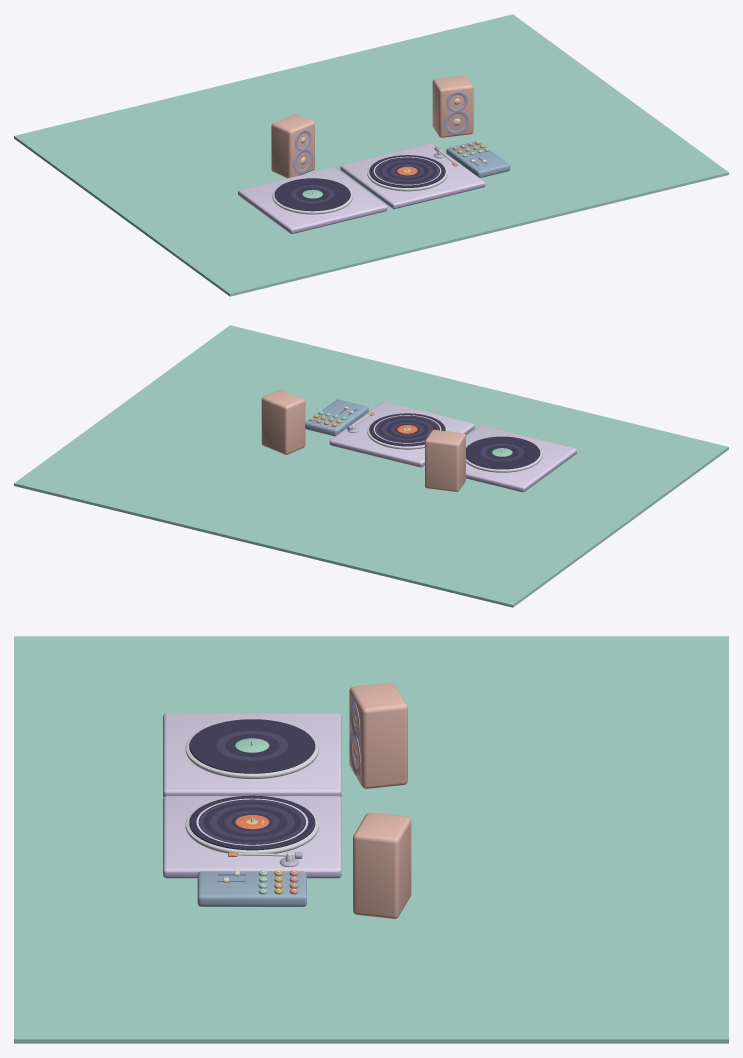
The model's file is vinyl_kit.glb.
3 views of the same model, one above another, from view 1: azimuth 30°, elevation 25°; view 2: azimuth 150°, elevation 25°; view 3: azimuth 270°, elevation 25° (orthographic). The views are drawn at different scales.
Parts seen in each view (by area): view 1: BOOTH_Table, DECK2_Body, DECK_Body, BOOTH_Speaker_L, BOOTH_Speaker_R, SPIN_Record, DECK2_Record, BOOTH_Mixer; view 2: BOOTH_Table, DECK_Body, DECK2_Body, BOOTH_Speaker_R, BOOTH_Speaker_L, DECK2_Record, SPIN_Record, BOOTH_Mixer; view 3: BOOTH_Table, DECK2_Body, DECK_Body, BOOTH_Speaker_L, BOOTH_Speaker_R, SPIN_Record, DECK2_Record, BOOTH_Mixer, DECK2_Platter, DECK_Platter.
Part boxes in pixels (box(x1,y1,x2,y2)): BOOTH_Table: box(14, 14, 728, 296); DECK2_Body: box(238, 167, 387, 233); DECK_Body: box(340, 143, 485, 209); BOOTH_Speaker_L: box(271, 114, 314, 178); BOOTH_Speaker_R: box(432, 75, 473, 137); SPIN_Record: box(369, 155, 445, 187); DECK2_Record: box(274, 178, 350, 211); BOOTH_Mixer: box(446, 141, 510, 177); BOOTH_Table: box(14, 325, 728, 607); DECK_Body: box(329, 401, 474, 467); DECK2_Body: box(466, 425, 576, 492); BOOTH_Speaker_R: box(261, 389, 305, 454); BOOTH_Speaker_L: box(425, 429, 465, 491); DECK2_Record: box(466, 436, 540, 469); SPIN_Record: box(369, 413, 445, 446); BOOTH_Mixer: box(305, 399, 368, 436); BOOTH_Table: box(14, 636, 728, 1043); DECK2_Body: box(163, 713, 341, 797); DECK_Body: box(163, 796, 341, 878); BOOTH_Speaker_L: box(349, 682, 407, 788); BOOTH_Speaker_R: box(353, 812, 411, 918); SPIN_Record: box(189, 795, 315, 850); DECK2_Record: box(189, 719, 315, 773); BOOTH_Mixer: box(197, 870, 306, 906); DECK2_Platter: box(185, 726, 318, 778); DECK_Platter: box(185, 803, 318, 854).
Size of the model in its own units: 80 by 7.9 by 60.
1 material, 1 textured.
